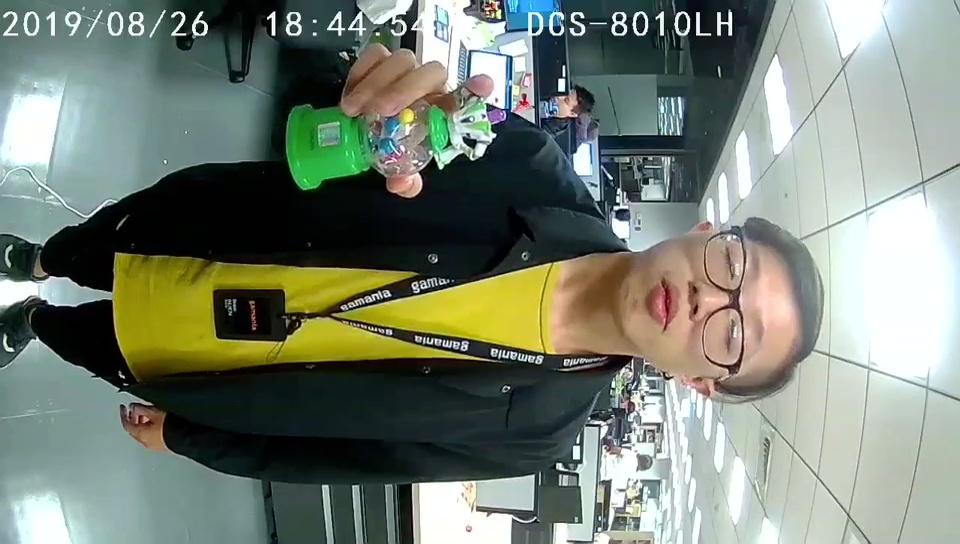buzz: (285, 95, 507, 195)
